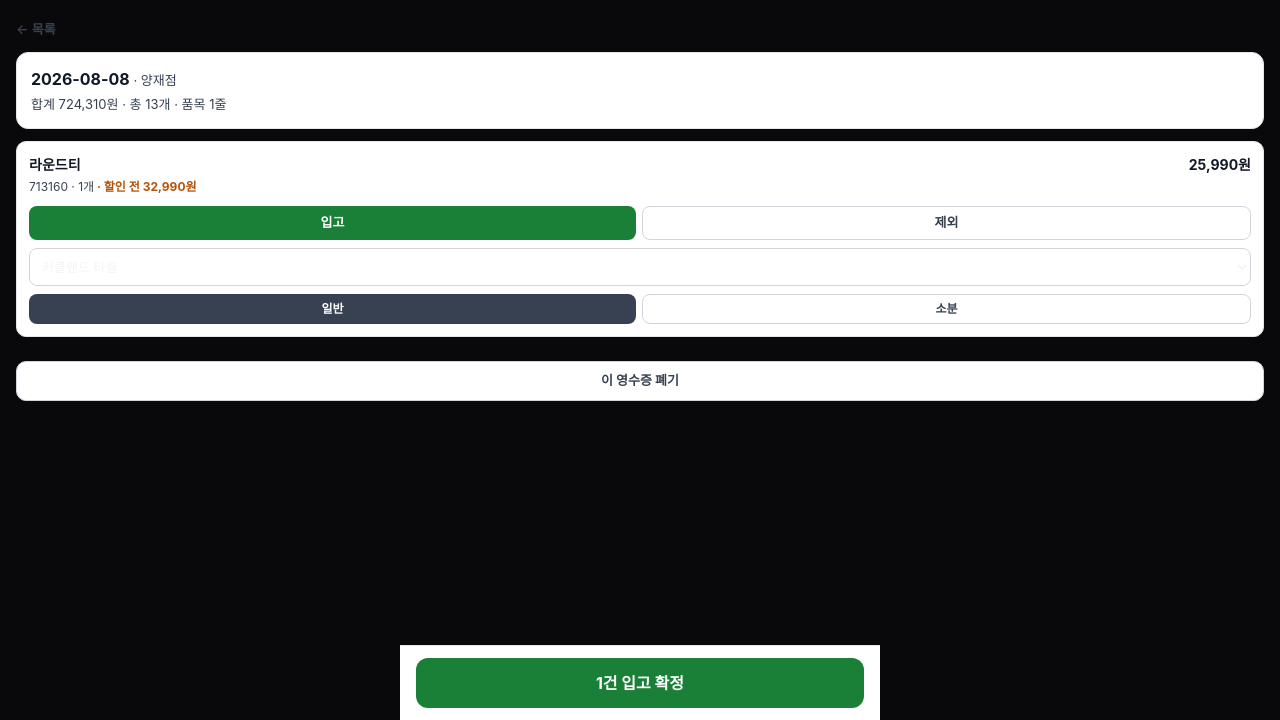
Test: ReceiptDetail › 확정하면 결과 건수를 보여준다
Click the button "1건 입고 확정" at (640, 683), box x1=416 y1=658 x2=864 y2=708
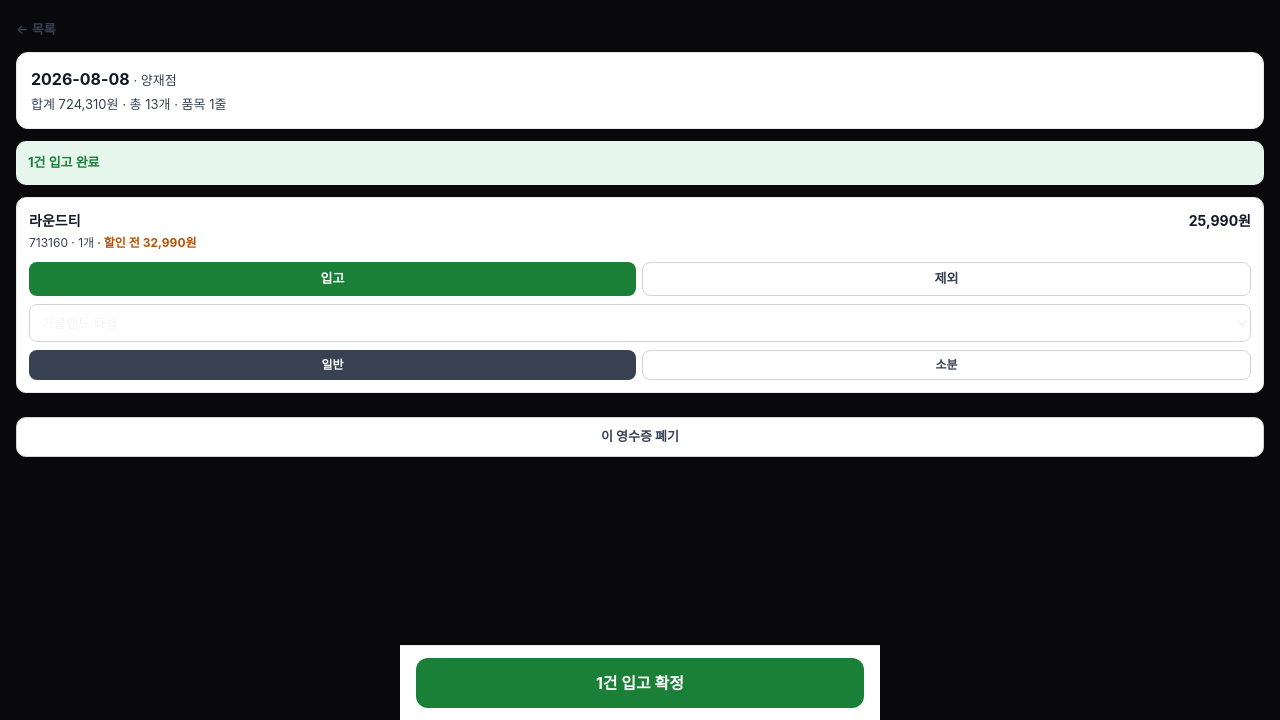
Expected: the text "1건 입고 완료" is shown, x1=16 y1=141 x2=1264 y2=184
